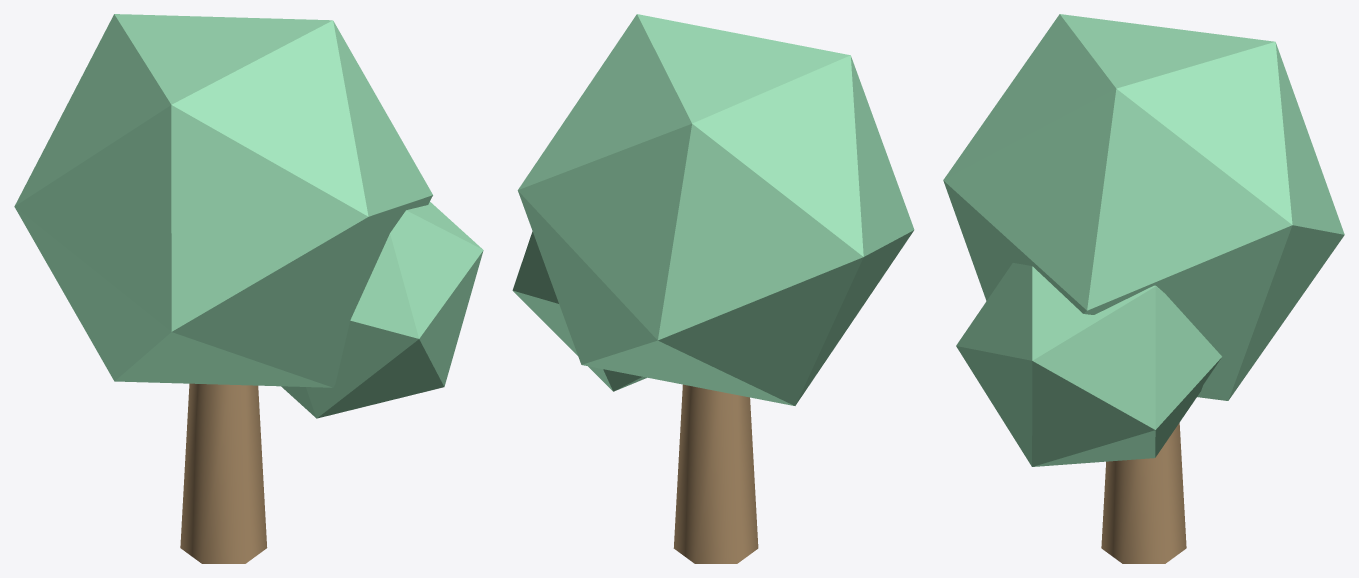
File: round1.glb
3 views of the same model, side by side, from view 1: azimuth 30°, elevation 25°; view 2: azimuth 150°, elevation 25°; view 3: azimuth 270°, elevation 25° (orthographic). The views are drawn at different scales.
Visible parts, largest first — view 1: round1; view 2: round1; view 3: round1.
Boxes of the visible parts, x1,y1,x2,y2 form: round1: (14,14,483,563); round1: (512,14,914,563); round1: (943,14,1344,563).
Bounding box in the file's own units: 1.73 × 2.22 × 1.6.
